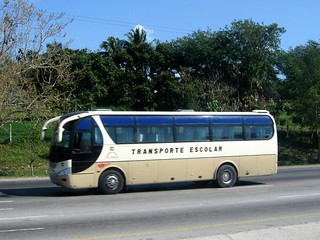bus: (48, 108, 278, 194)
